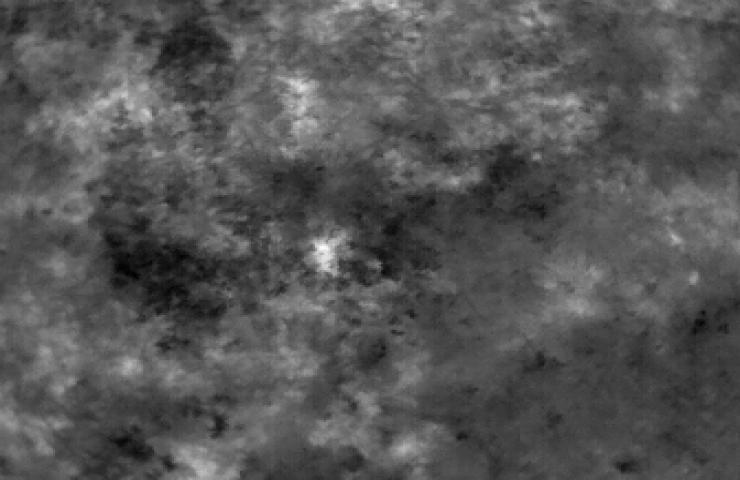landmines: (309, 231, 355, 281)
